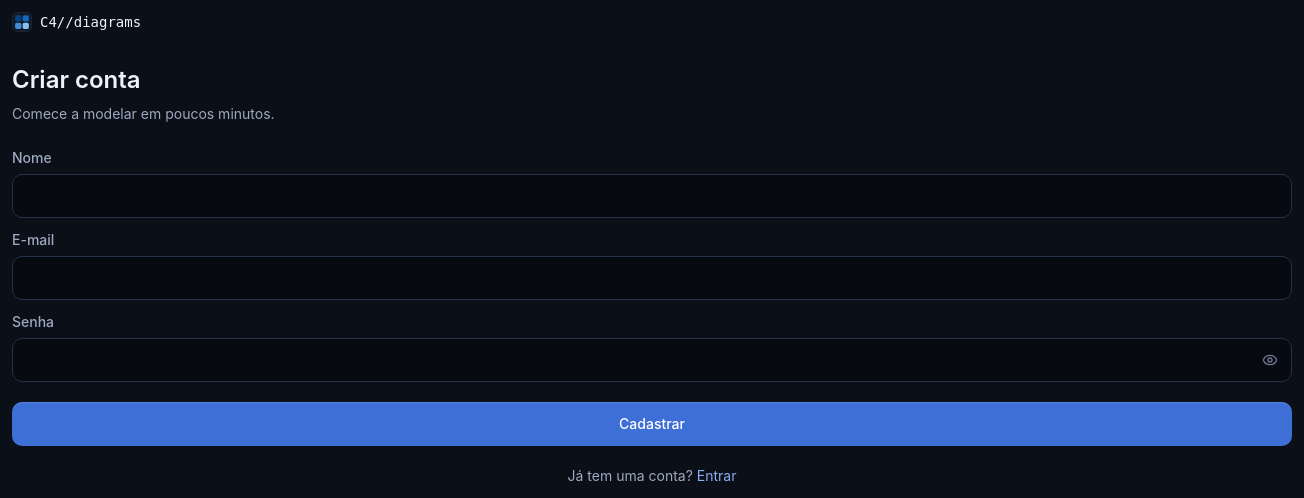
Register › deve exibir mensagem de sucesso após cadastro
The width and height of the screenshot is (1304, 498).
In the field labelled "Nome": [652, 196] box x1=12 y1=174 x2=1292 y2=218, type "João"
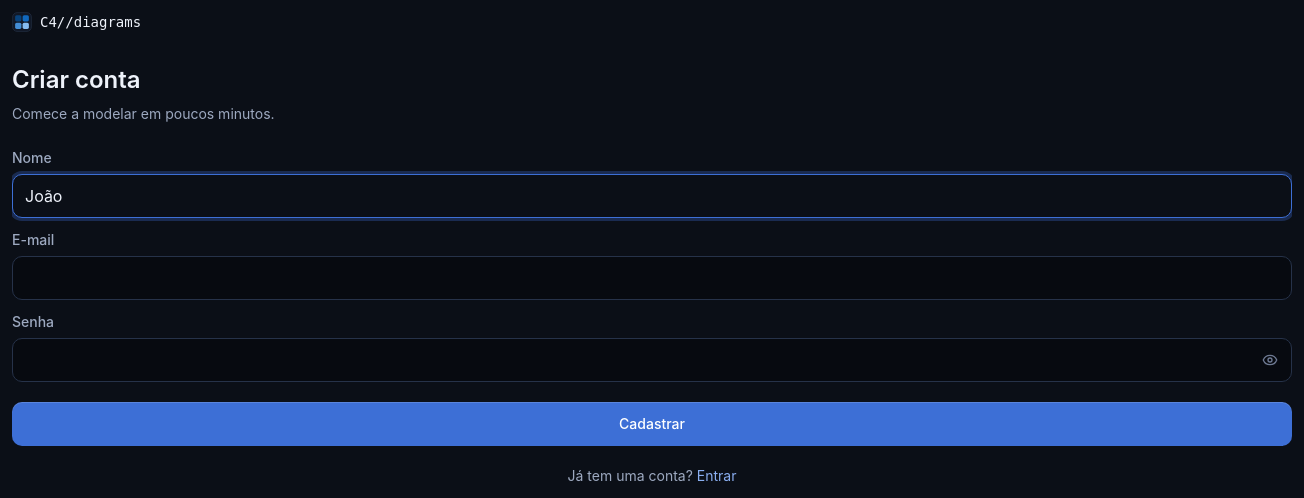
In the field labelled "E-mail": [652, 278] box x1=12 y1=256 x2=1292 y2=300, type "joao@example.com"
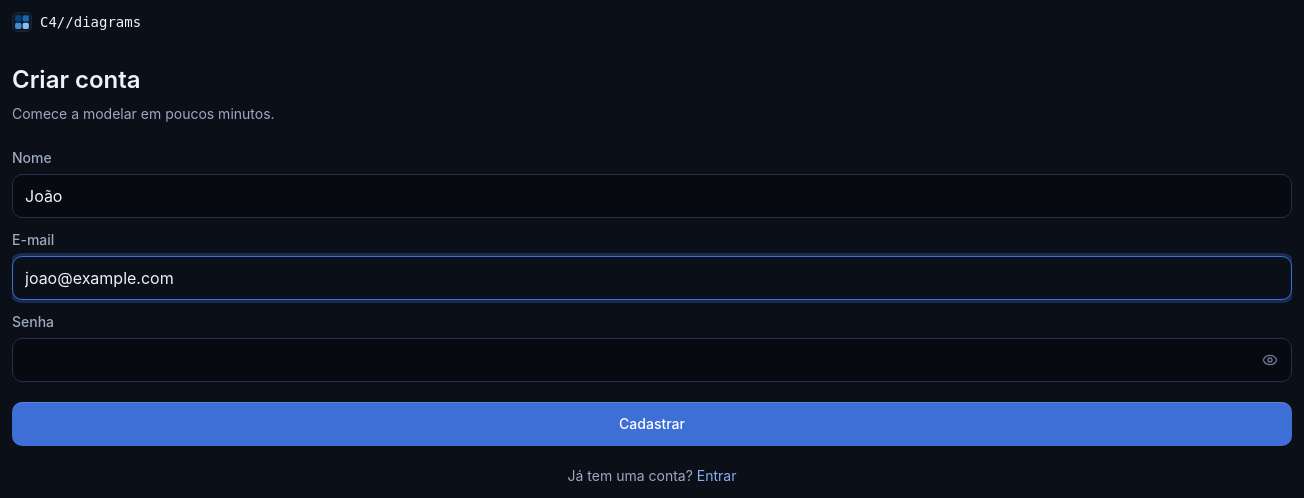
In the password field labelled "Senha": [652, 360] box x1=12 y1=338 x2=1292 y2=382, type "Senha@12345"
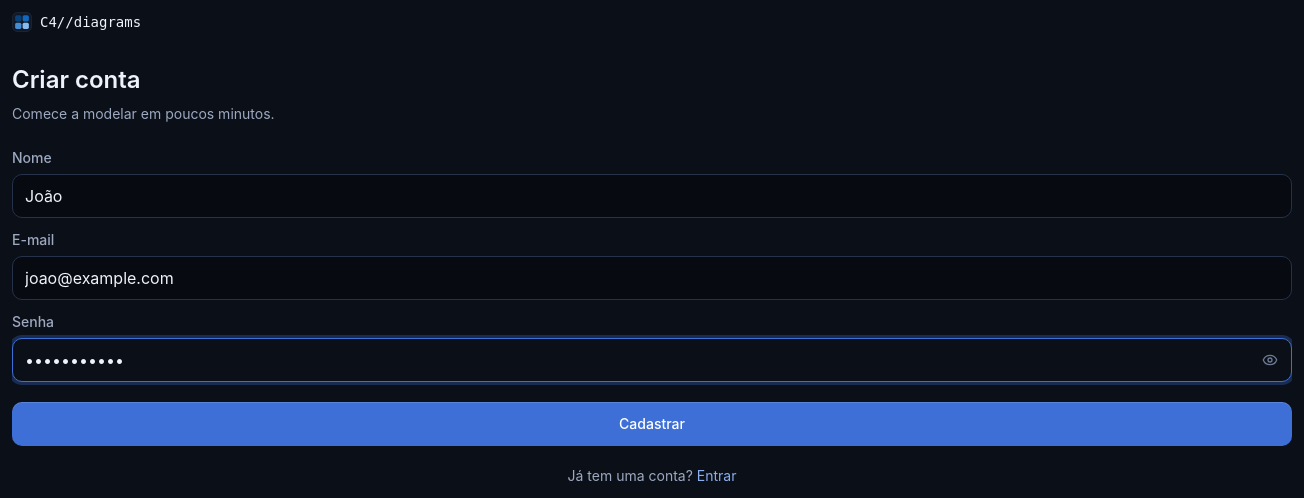
Click the button "Cadastrar": [652, 424] box x1=12 y1=402 x2=1292 y2=446
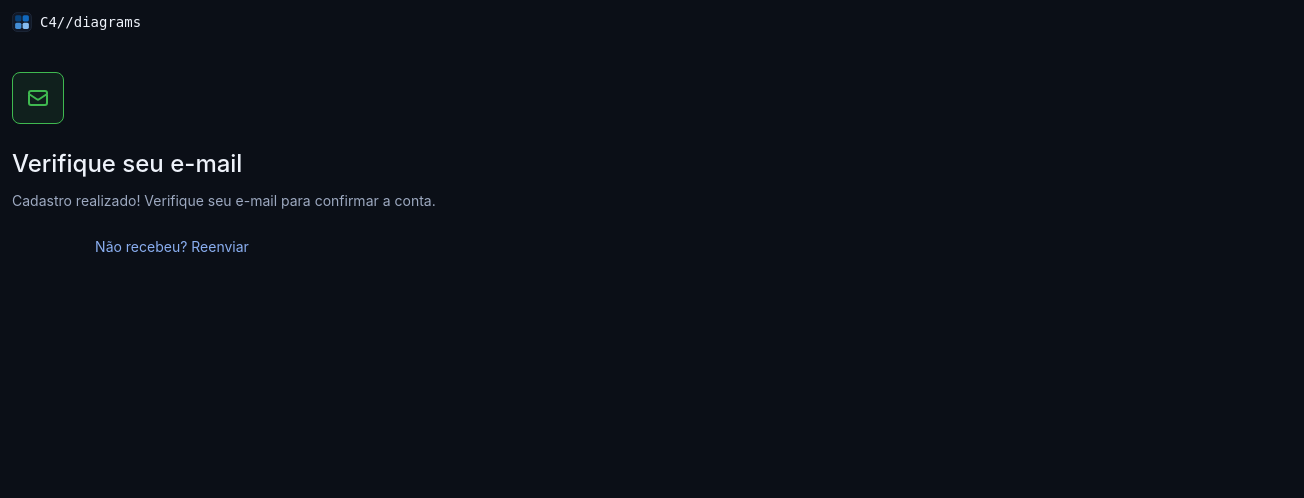
expect the text "Verifique seu e-mail" is shown: met, box x1=12 y1=192 x2=436 y2=209
